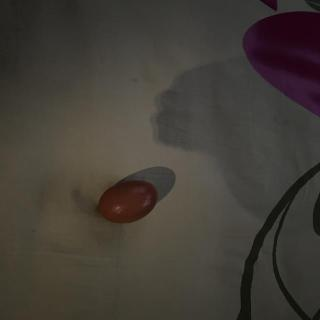Telur: (97, 178, 165, 225)
